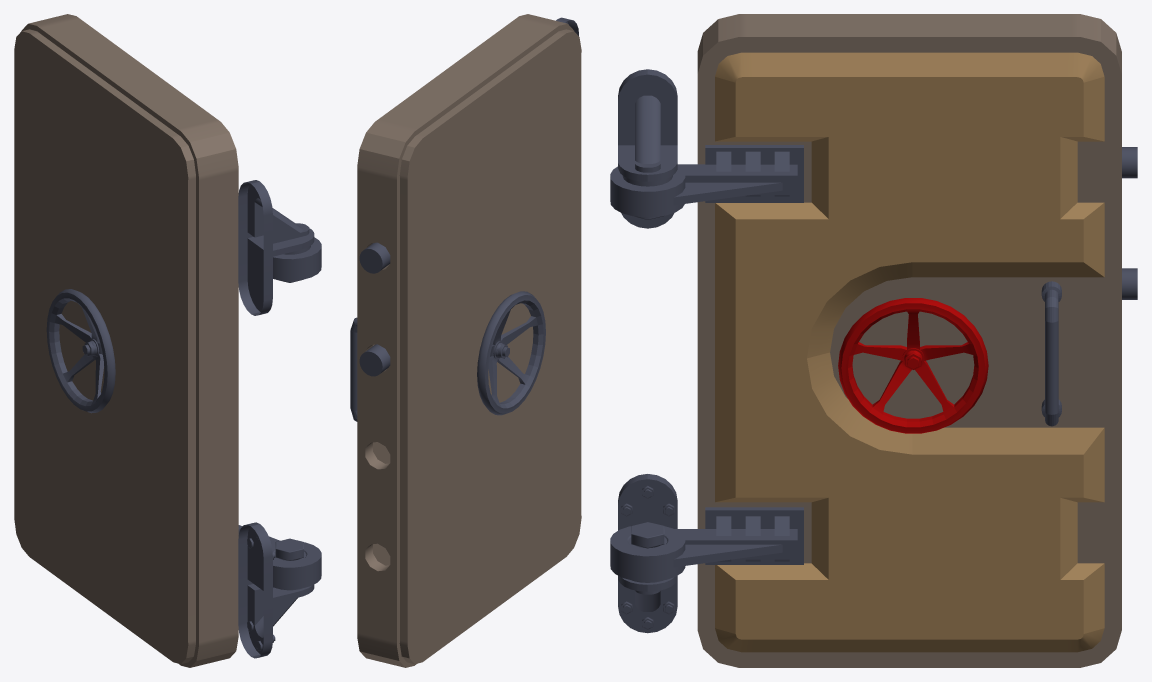
The model's file is bunkerdoor.fbx.
3 renders of one model, left to right at view 1: azimuth 30°, elevation 25°; view 2: azimuth 150°, elevation 25°; view 3: azimuth 270°, elevation 25°, orthographic. The views are drawn at different scales.
Visible parts, largest first — view 1: pCylinder38, pCylinder39, pCylinder7 (×2), pCylinder40, pCylinder29 (×2), pCylinder10; view 2: pCylinder38, pCylinder39, pCylinder40, pCylinder35, pCylinder34, pCylinder30, pCylinder31; view 3: polySurface1, polySurface3, pCylinder38, pCylinder39, pCylinder7 (×2), pCylinder29 (×2), pCylinder28, pCube17 (×2), pCube25 (×2), pCylinder30, pCylinder31, pCylinder10.
Part boxes in pixels (left/top/right/bottom): pCylinder38: left=14, top=14, right=238, bottom=411; pCylinder39: left=14, top=284, right=238, bottom=667; pCylinder7 (×2): left=238, top=180, right=314, bottom=658; pCylinder40: left=46, top=289, right=115, bottom=413; pCylinder29 (×2): left=238, top=237, right=321, bottom=589; pCylinder10: left=275, top=538, right=303, bottom=560; pCylinder38: left=357, top=14, right=581, bottom=411; pCylinder39: left=357, top=284, right=581, bottom=667; pCylinder40: left=477, top=291, right=545, bottom=415; pCylinder35: left=359, top=344, right=390, bottom=376; pCylinder34: left=359, top=242, right=390, bottom=273; pCylinder30: left=350, top=317, right=357, bottom=371; pCylinder31: left=350, top=369, right=357, bottom=421; polySurface1: left=715, top=52, right=1104, bottom=358; polySurface3: left=715, top=352, right=1104, bottom=652; pCylinder38: left=697, top=14, right=1121, bottom=352; pCylinder39: left=697, top=352, right=1121, bottom=667; pCylinder7 (×2): left=618, top=69, right=677, bottom=633; pCylinder29 (×2): left=610, top=164, right=797, bottom=581; pCylinder28: left=838, top=298, right=988, bottom=433; pCube17 (×2): left=705, top=145, right=803, bottom=564; pCube25 (×2): left=673, top=182, right=782, bottom=567; pCylinder30: left=1041, top=281, right=1061, bottom=368; pCylinder31: left=1041, top=366, right=1061, bottom=426; pCylinder10: left=631, top=522, right=664, bottom=548.
Bounding box in the file's own units: 61.35 × 244 × 185.
